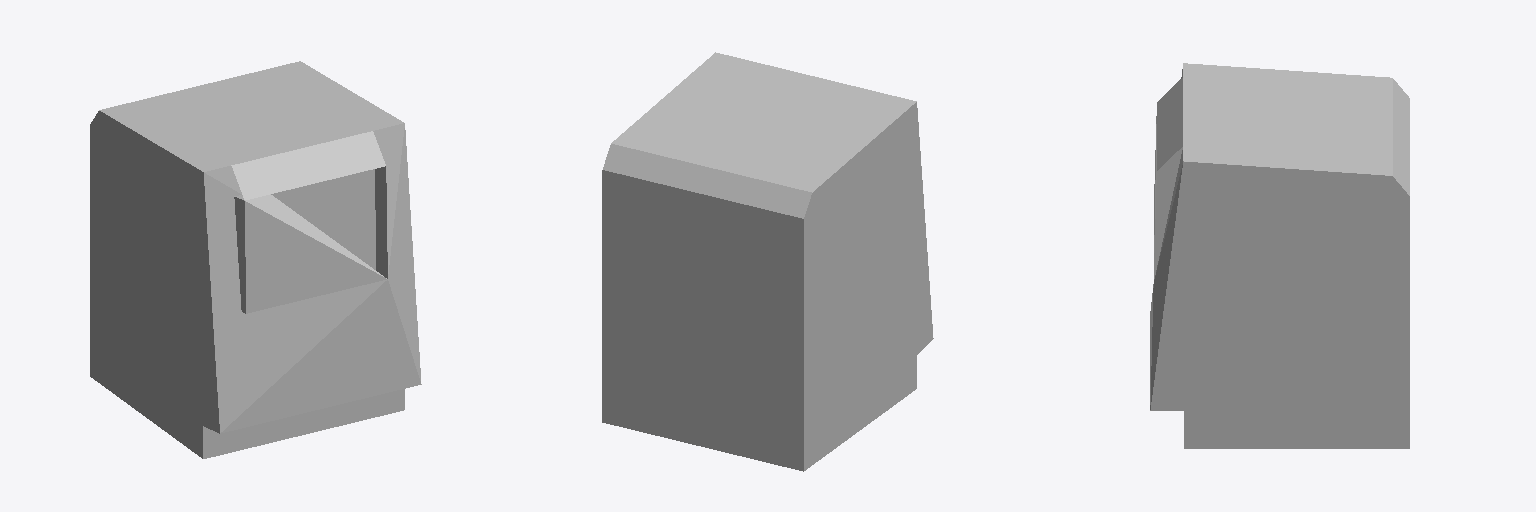
Rendered from ordinateur.obj.
3 views of the same model, side by side, from view 1: azimuth 30°, elevation 25°; view 2: azimuth 150°, elevation 25°; view 3: azimuth 270°, elevation 25° (orthographic).
Parts seen in each view (by area): view 1: Cube_Cube.003; view 2: Cube_Cube.003; view 3: Cube_Cube.003.
Part boxes in pixels (x1,y1,x2,y2): Cube_Cube.003: (90, 61, 421, 458); Cube_Cube.003: (602, 52, 933, 471); Cube_Cube.003: (1150, 63, 1409, 448).
Size of the model in its own units: 0.6647 by 0.9062 by 0.741.